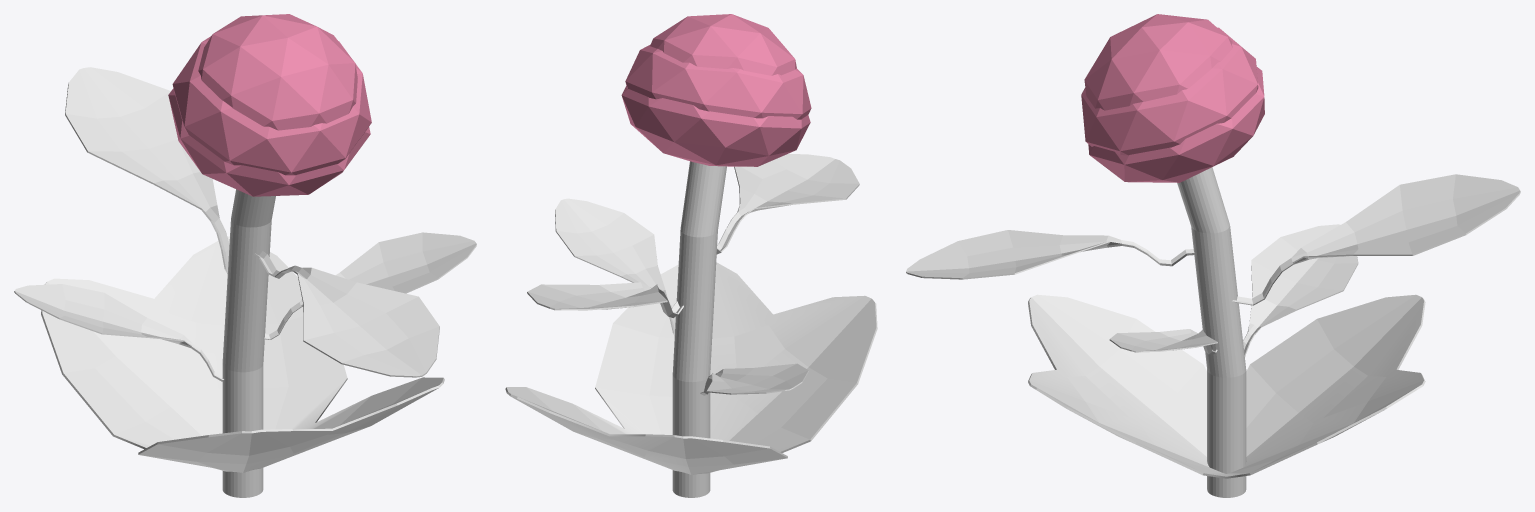
Rendered from Amaranth_grown.fbx.
The picture shows the model from 3 angles, left to right: view 1: azimuth 30°, elevation 25°; view 2: azimuth 150°, elevation 25°; view 3: azimuth 270°, elevation 25°; orthographic projection. The views are drawn at different scales.
Parts seen in each view (by area): view 1: Leaf_bottom, AmaranthHead_1, leaf.001, leaf.002, Stem, AmaranthHead_3, leaf.003, leaf, AmaranthHead_2; view 2: Leaf_bottom, Stem, AmaranthHead_2, AmaranthHead_3, leaf.003, AmaranthHead_1, leaf.002, leaf.001, leaf; view 3: Leaf_bottom, Stem, leaf.001, AmaranthHead_1, AmaranthHead_3, leaf.002, leaf, AmaranthHead_2, leaf.003.
Boxes of the visible parts, x1,y1,x2,y2 form: Leaf_bottom: [41, 236, 444, 472]; AmaranthHead_1: [198, 14, 357, 130]; leaf.001: [65, 67, 229, 273]; leaf.002: [254, 251, 439, 377]; Stem: [222, 189, 275, 497]; AmaranthHead_3: [172, 36, 371, 175]; leaf.003: [264, 232, 476, 339]; leaf: [14, 284, 223, 381]; AmaranthHead_2: [168, 89, 370, 196]; Leaf_bottom: [505, 262, 877, 474]; Stem: [672, 161, 726, 497]; AmaranthHead_2: [621, 86, 810, 166]; AmaranthHead_3: [625, 44, 811, 119]; leaf.003: [555, 198, 675, 335]; AmaranthHead_1: [650, 14, 796, 75]; leaf.002: [716, 154, 859, 254]; leaf.001: [527, 282, 683, 317]; leaf: [700, 363, 808, 395]; Leaf_bottom: [1028, 294, 1425, 478]; Stem: [1177, 167, 1246, 497]; leaf.001: [1232, 174, 1520, 305]; AmaranthHead_1: [1084, 14, 1232, 110]; AmaranthHead_3: [1081, 27, 1258, 155]; leaf.002: [906, 230, 1194, 279]; leaf: [1243, 224, 1358, 356]; AmaranthHead_2: [1088, 67, 1264, 182]; leaf.003: [1109, 329, 1217, 355].
Size of the model in its own units: 716 by 938 by 1118.
